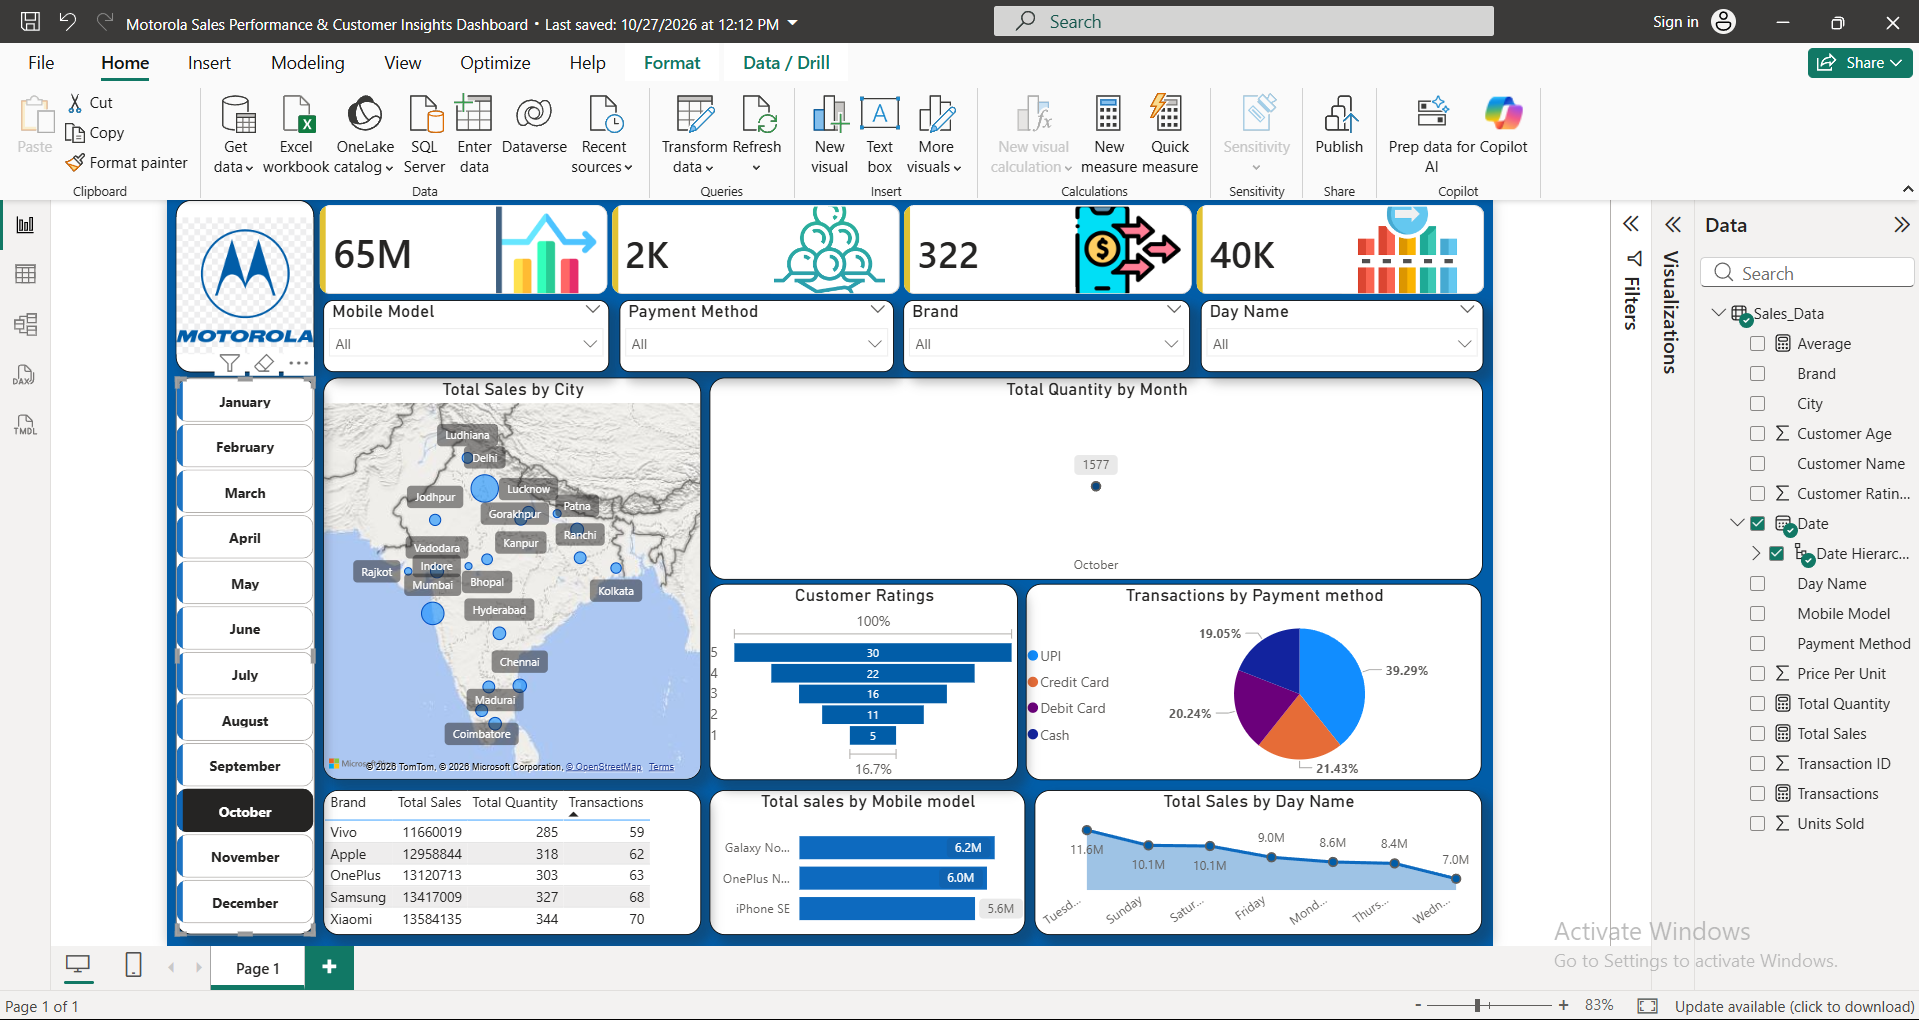

Layout of this report page (visuals, bound fields, positions):
{"tool":"powerbi","page":{"name":"Page 1","canvas":[1280,720],"ordinal":0},"visuals":[{"type":"image","box":[8.4,0,133.9,166.5],"z":0},{"type":"advancedSlicerVisual","fields":{"Values":["Sales_Data.Date.Variation.Date Hierarchy.Month"]},"box":[8.2,171.5,134.5,537.9],"z":1000},{"type":"cardVisual","fields":{"Data":["Sales_Data.Total Sales","Sales_Data.Total Quantity","Sales_Data.Transactions","Sales_Data.Average"]},"box":[142.4,0,1137.7,96.5],"z":2000},{"type":"map","fields":{"Category":["Sales_Data.City"],"Size":["Sales_Data.Total Sales"]},"box":[150.9,171.5,365,388.3],"z":3000},{"type":"lineChart","title":"Total Quantity by Month","fields":{"Y":["Sales_Data.Total Quantity"],"Category":["Sales_Data.Date.Variation.Date Hierarchy.Month","Sales_Data.Date.Variation.Date Hierarchy.Day"]},"box":[524.2,171.5,746.5,194.9],"z":4000},{"type":"clusteredBarChart","title":"Total sales by Mobile model","fields":{"Category":["Sales_Data.Mobile Model"],"Y":["Sales_Data.Total Sales"]},"box":[524.2,569.5,304.6,140],"z":4001},{"type":"pieChart","title":"Transactions by Payment  method","fields":{"Category":["Sales_Data.Payment Method"],"Y":["Sales_Data.Transactions"]},"box":[828.8,370.4,440.4,189.4],"z":4002},{"type":"funnel","title":"Customer Ratings","fields":{"Category":["Sales_Data.Customer Ratings"],"Y":["CountNonNull(Sales_Data.Customer Ratings)"]},"box":[524.2,370.5,297.8,189.4],"z":4003},{"type":"areaChart","fields":{"Category":["Sales_Data.Day Name"],"Y":["Sales_Data.Total Sales"]},"box":[837.3,569.4,431.9,139.9],"z":4004},{"type":"tableEx","fields":{"Values":["Sales_Data.Brand","Sales_Data.Total Sales","Sales_Data.Total Quantity","Sales_Data.Transactions"]},"box":[150.9,569.5,365,140],"z":4005},{"type":"slicer","fields":{"Values":["Sales_Data.Mobile Model"]},"box":[150.9,96.1,275.8,70],"z":4006},{"type":"slicer","fields":{"Values":["Sales_Data.Payment Method"]},"box":[436.4,96.1,264.8,70],"z":4007},{"type":"slicer","fields":{"Values":["Sales_Data.Brand"]},"box":[710.8,96.1,277.2,70],"z":4008},{"type":"slicer","fields":{"Values":["Sales_Data.Day Name"]},"box":[997.6,96.1,273.1,70],"z":4009}]}

Visuals, with their boxes on the page's 1280x720 design canvas (x1, y1, x2, y2). These are canvas units, not pixel positions in the 1919x1020 screenshot, which may show the page scaled, cropped or inside an application window:
image: [x1=8, y1=0, x2=142, y2=166]
advancedSlicerVisual - Sales_Data.Date.Variation.Date Hierarchy.Month: [x1=8, y1=172, x2=143, y2=709]
cardVisual - Sales_Data.Total Sales x Sales_Data.Total Quantity: [x1=142, y1=0, x2=1280, y2=96]
map - Sales_Data.City x Sales_Data.Total Sales: [x1=151, y1=172, x2=516, y2=560]
"Total Quantity by Month" lineChart: [x1=524, y1=172, x2=1271, y2=366]
"Total sales by Mobile model" clusteredBarChart: [x1=524, y1=570, x2=829, y2=710]
"Transactions by Payment  method" pieChart: [x1=829, y1=370, x2=1269, y2=560]
"Customer Ratings" funnel: [x1=524, y1=370, x2=822, y2=560]
areaChart - Sales_Data.Day Name x Sales_Data.Total Sales: [x1=837, y1=569, x2=1269, y2=709]
tableEx - Sales_Data.Brand x Sales_Data.Total Sales: [x1=151, y1=570, x2=516, y2=710]
slicer - Sales_Data.Mobile Model: [x1=151, y1=96, x2=427, y2=166]
slicer - Sales_Data.Payment Method: [x1=436, y1=96, x2=701, y2=166]
slicer - Sales_Data.Brand: [x1=711, y1=96, x2=988, y2=166]
slicer - Sales_Data.Day Name: [x1=998, y1=96, x2=1271, y2=166]
